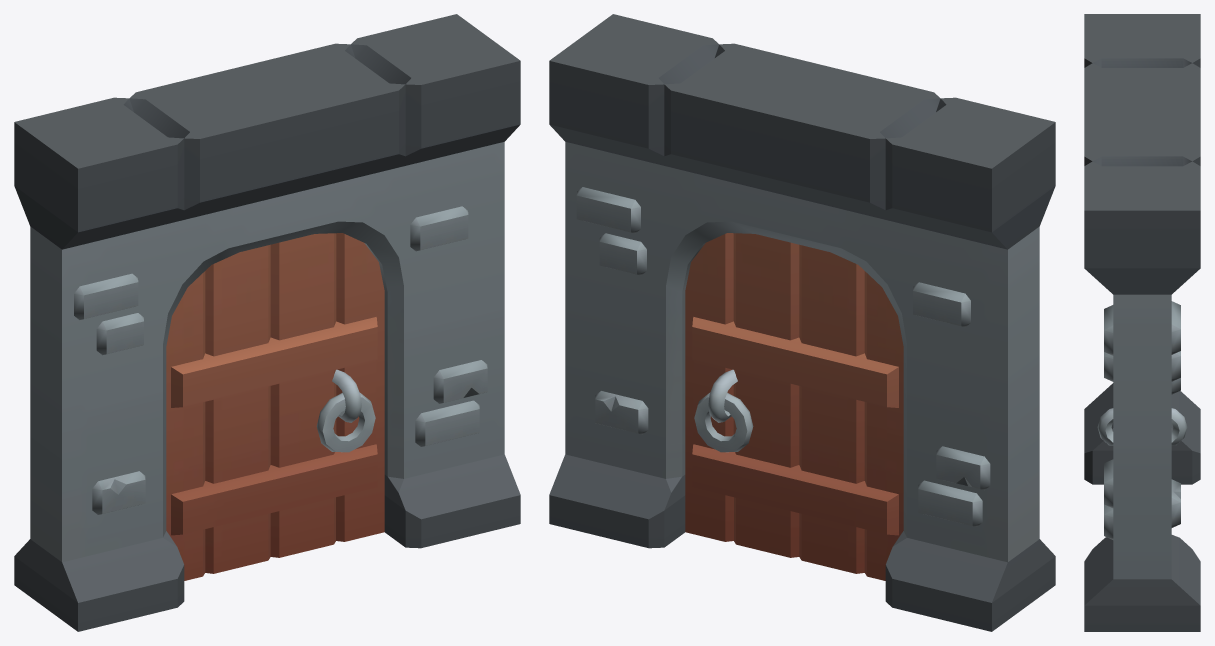
The model's file is wall_doorway.glb.
3 renders of one model, left to right at view 1: azimuth 30°, elevation 25°; view 2: azimuth 150°, elevation 25°; view 3: azimuth 270°, elevation 25°, orthographic. The views are drawn at different scales.
Visible parts, largest first — view 1: Cube.13132, wall_doorway_door; view 2: Cube.13132, wall_doorway_door; view 3: Cube.13132, wall_doorway_door.
Part boxes in pixels (x1=…): Cube.13132: x1=14, y1=14, x2=520, y2=631; wall_doorway_door: x1=166, y1=233, x2=384, y2=580; Cube.13132: x1=549, y1=14, x2=1055, y2=631; wall_doorway_door: x1=685, y1=233, x2=903, y2=580; Cube.13132: x1=1084, y1=14, x2=1200, y2=631; wall_doorway_door: x1=1097, y1=408, x2=1187, y2=445.
Bounding box in the file's own units: 4 × 4 × 1.
Materials: 1 (1 with a texture image).
